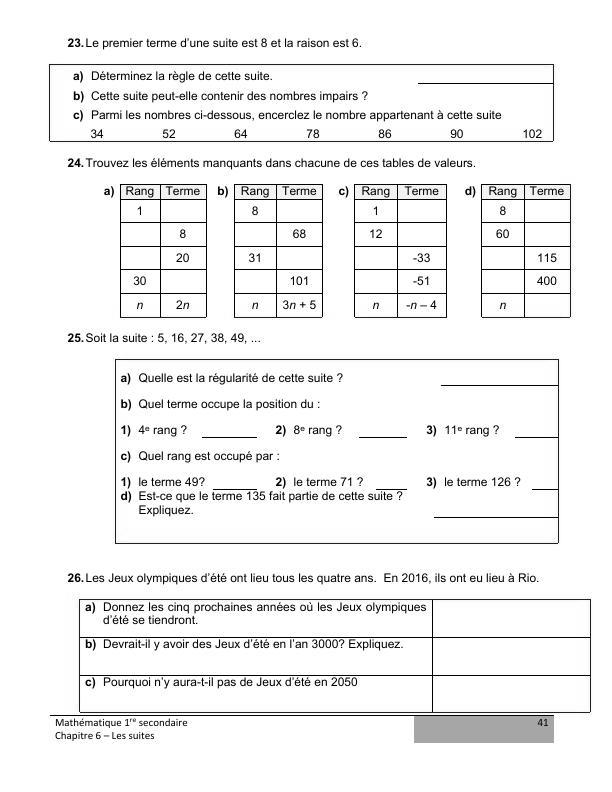input: (413, 68, 553, 87), (431, 505, 558, 524), (439, 376, 558, 392), (199, 423, 259, 440), (356, 424, 410, 442), (515, 426, 557, 442), (213, 477, 258, 491), (375, 476, 410, 492), (531, 480, 558, 495)
table: (76, 596, 594, 714), (351, 181, 452, 322), (479, 182, 574, 322), (232, 182, 325, 320), (117, 182, 209, 320)
text: (66, 566, 541, 584), (119, 491, 405, 516), (64, 154, 476, 171), (72, 107, 506, 122), (88, 126, 546, 138), (60, 35, 365, 53), (71, 89, 371, 103), (66, 326, 264, 346), (121, 397, 326, 416), (70, 67, 278, 84), (119, 371, 347, 386), (118, 448, 283, 465), (423, 475, 524, 491), (272, 420, 344, 439), (424, 423, 502, 440), (273, 475, 365, 489), (119, 423, 189, 439), (122, 476, 207, 488)
